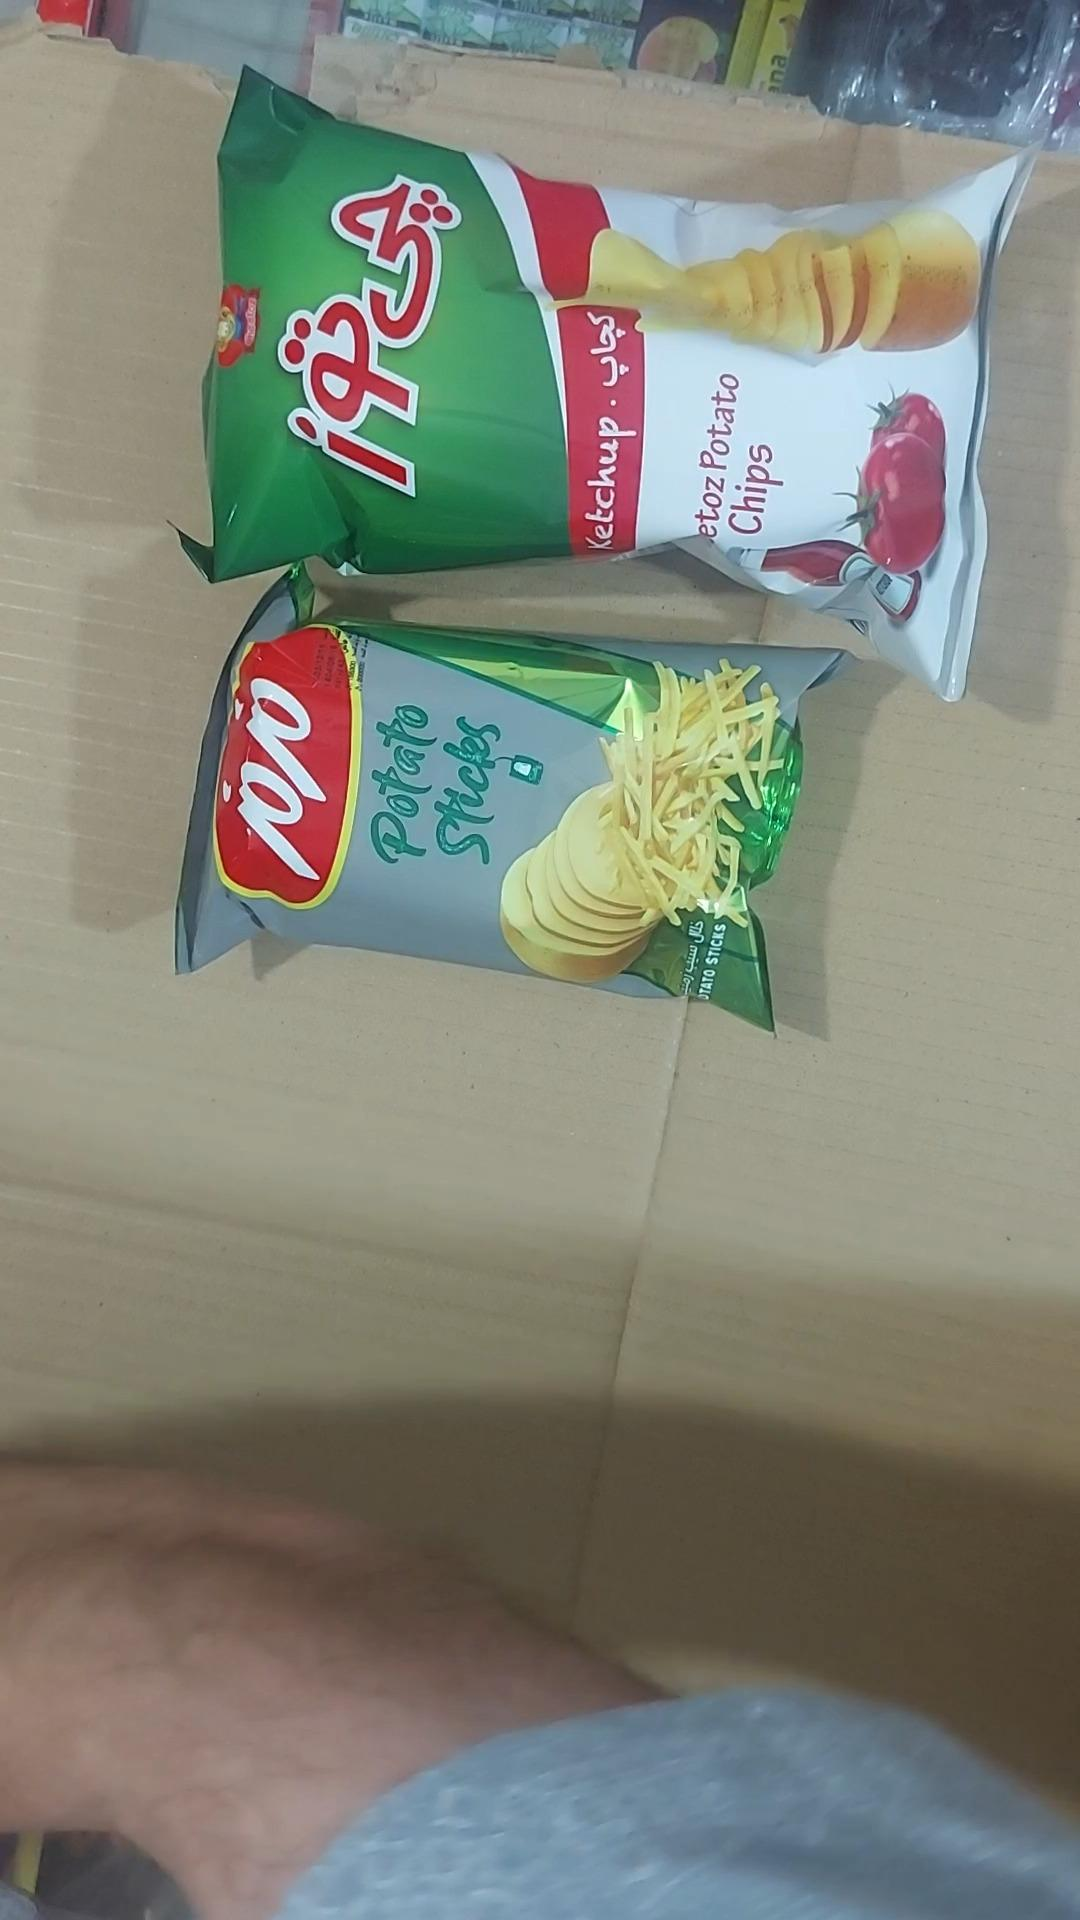Cheetoz ketchup chips: (162, 69, 1040, 702)
Maz Maz potato sticks: (175, 562, 847, 1033)
